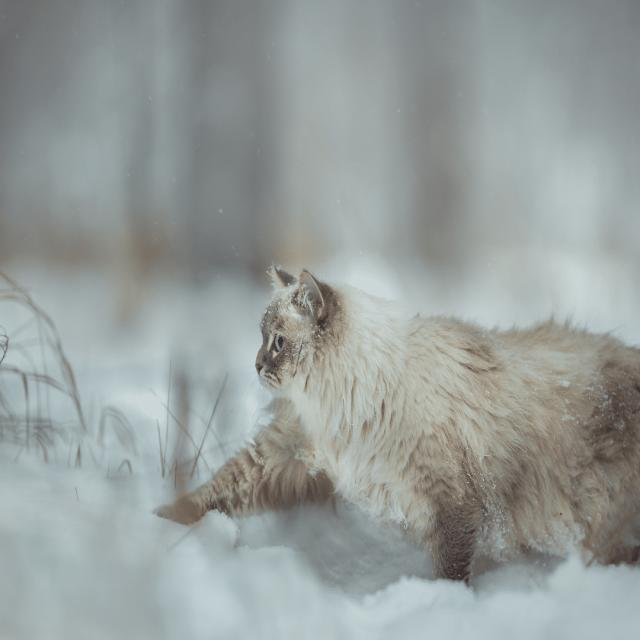Neva Masquerade: (143, 256, 640, 596)
